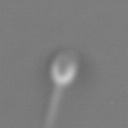normal: (39, 82, 60, 128)
